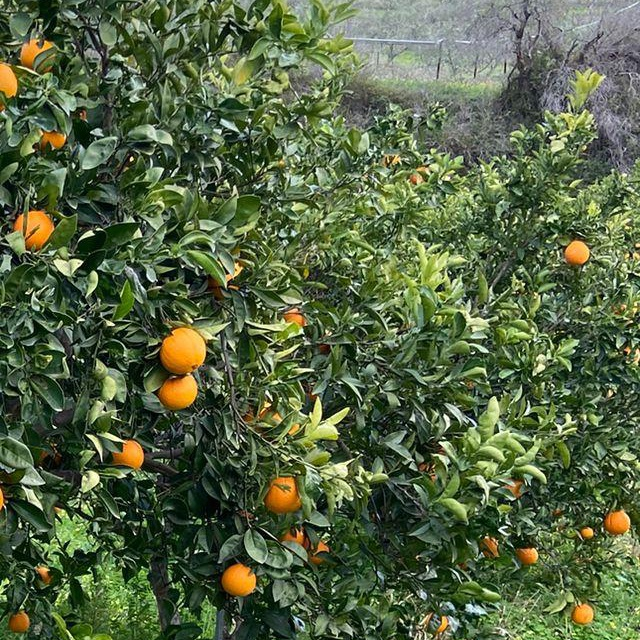orange: (156, 321, 208, 379), (154, 354, 200, 410), (10, 205, 52, 253), (103, 434, 147, 476), (264, 471, 306, 513), (208, 256, 248, 300), (26, 111, 66, 149), (242, 400, 280, 436), (222, 561, 258, 597), (21, 35, 57, 71), (601, 503, 635, 539), (276, 522, 308, 558), (478, 524, 502, 566), (300, 535, 332, 565), (273, 410, 303, 440), (563, 236, 591, 268), (279, 301, 303, 337), (0, 61, 18, 105), (569, 599, 595, 627), (7, 607, 33, 635), (417, 460, 445, 486), (33, 562, 59, 588), (421, 611, 449, 635), (514, 541, 538, 565), (505, 477, 529, 499), (411, 166, 431, 184), (550, 506, 566, 528), (385, 152, 403, 170), (0, 468, 5, 524), (580, 526, 594, 540)
